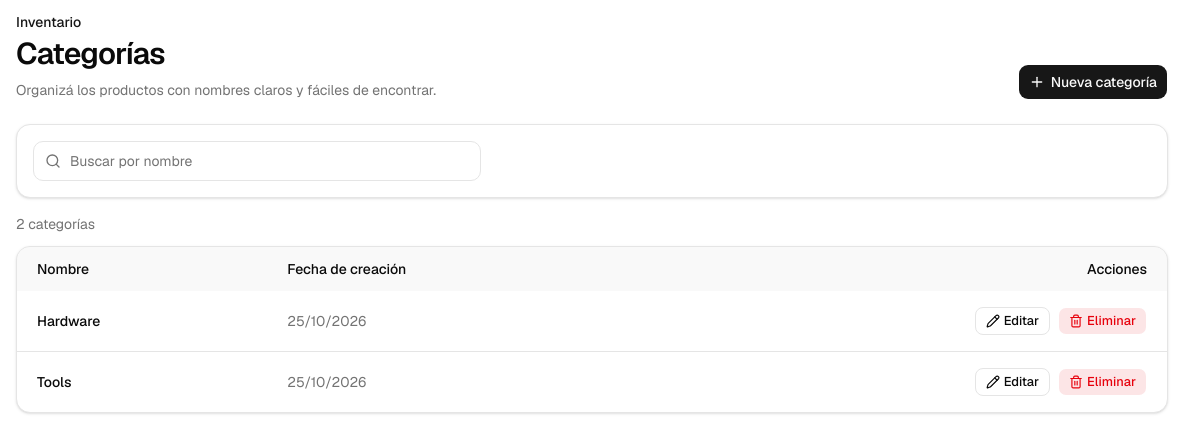
Scenario: CategoriesPage › filters categories by name on the client
Step 1. Type "tool" into the search field named "Buscar categorías" → (257, 161), box [33,141,481,181]
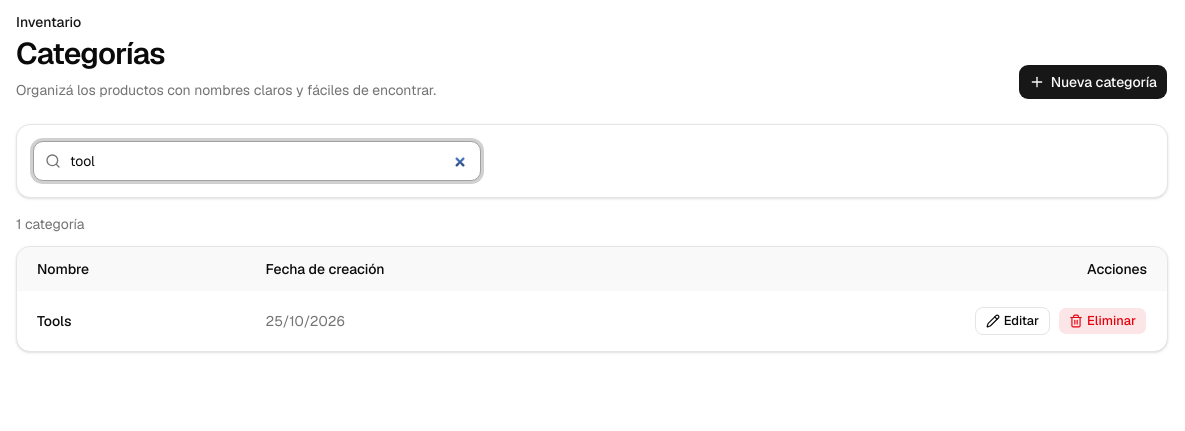
Expected: the column heading "Hardware" is gone
Expected: the text "Tools" is shown 2 times
